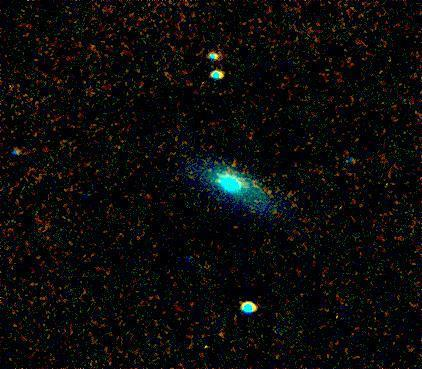star: (254, 176, 284, 206)
